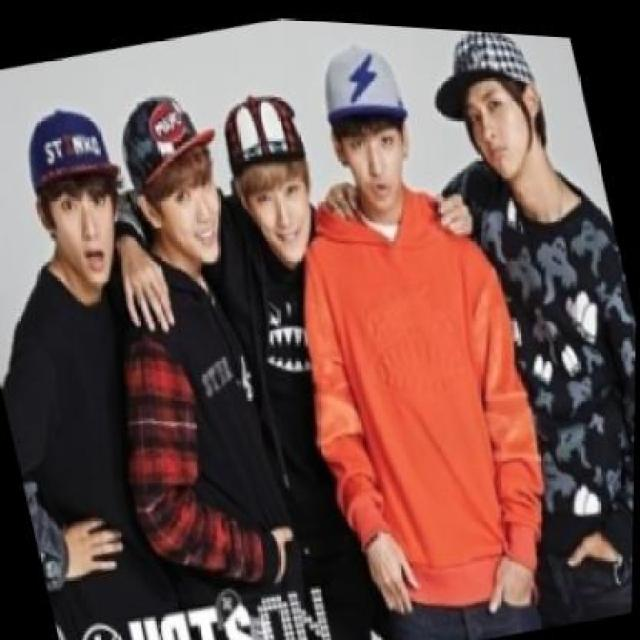hat: (109, 78, 229, 188), (14, 88, 124, 202), (417, 22, 537, 116), (212, 75, 311, 180), (315, 34, 413, 138)
